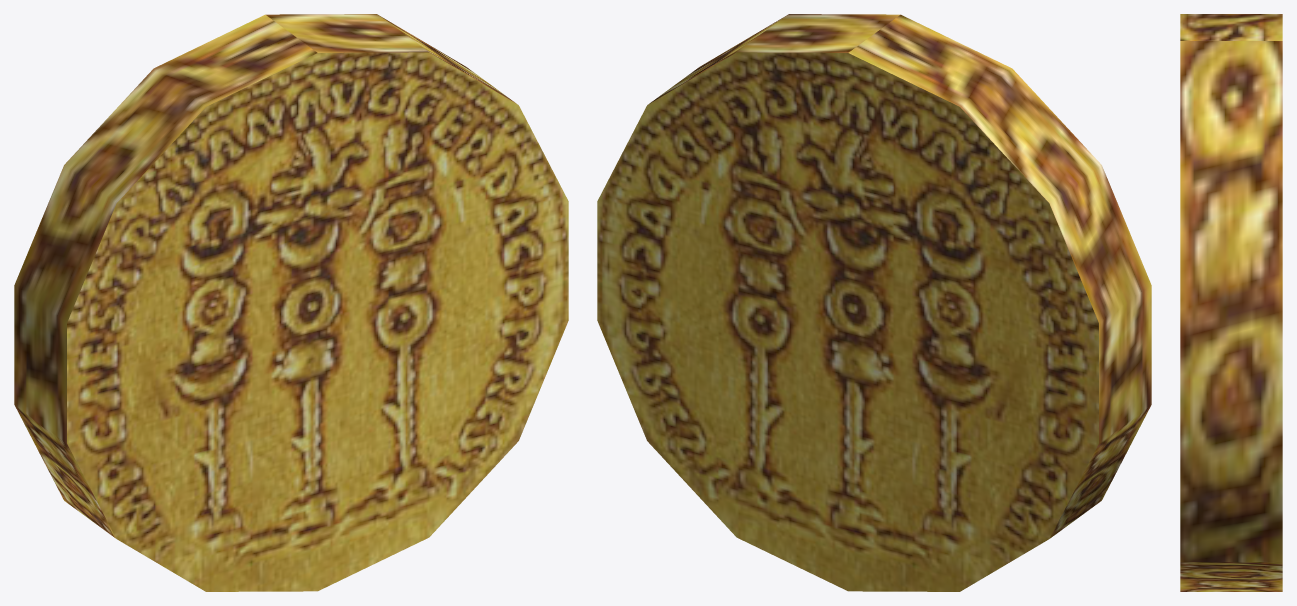
File: coin2.glb
3 views of the same model, side by side, from view 1: azimuth 30°, elevation 25°; view 2: azimuth 150°, elevation 25°; view 3: azimuth 270°, elevation 25° (orthographic). The views are drawn at different scales.
Visible parts, largest first — view 1: Cylinder.012; view 2: Cylinder.012; view 3: Cylinder.012.
Boxes of the visible parts, left/top/right/bottom form: Cylinder.012: left=14, top=14, right=568, bottom=591; Cylinder.012: left=597, top=14, right=1151, bottom=591; Cylinder.012: left=1180, top=14, right=1282, bottom=591.
Bounding box in the file's own units: 0.0589 × 0.0604 × 0.0107.
1 material, 1 textured.
